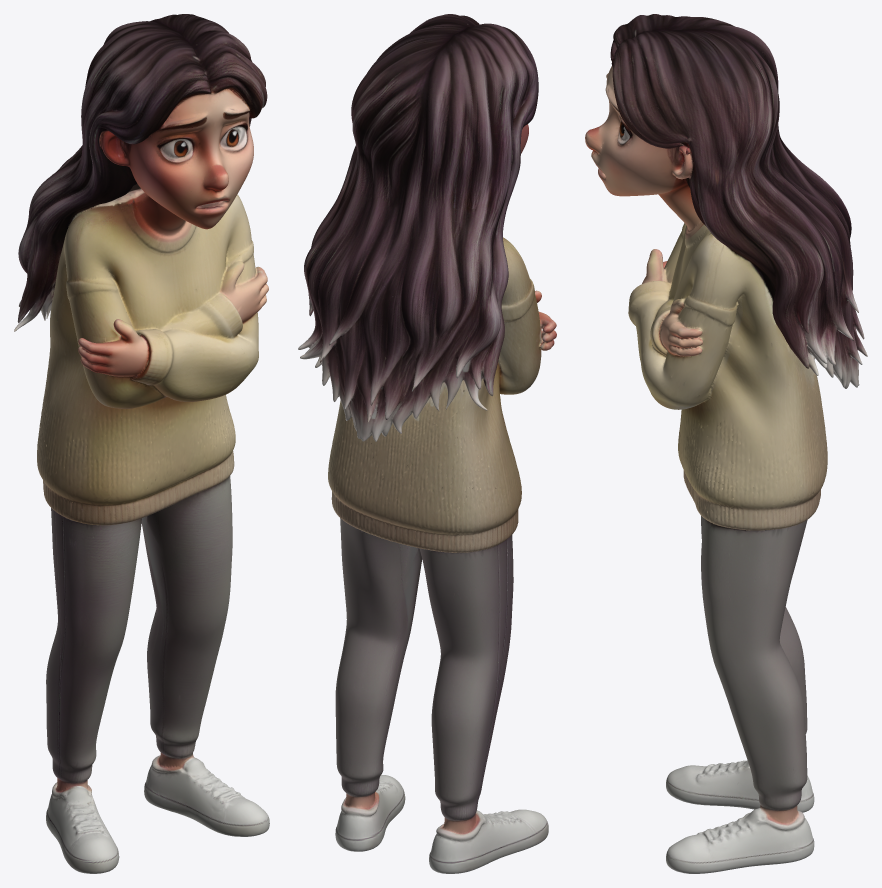
Rendered from fearful_part.glb.
3 renders of one model, left to right at view 1: azimuth 30°, elevation 25°; view 2: azimuth 150°, elevation 25°; view 3: azimuth 270°, elevation 25°, orthographic. The views are drawn at different scales.
Size of the model in its own units: 0.4773 by 1.9 by 0.6039.
1 material, 1 textured.
